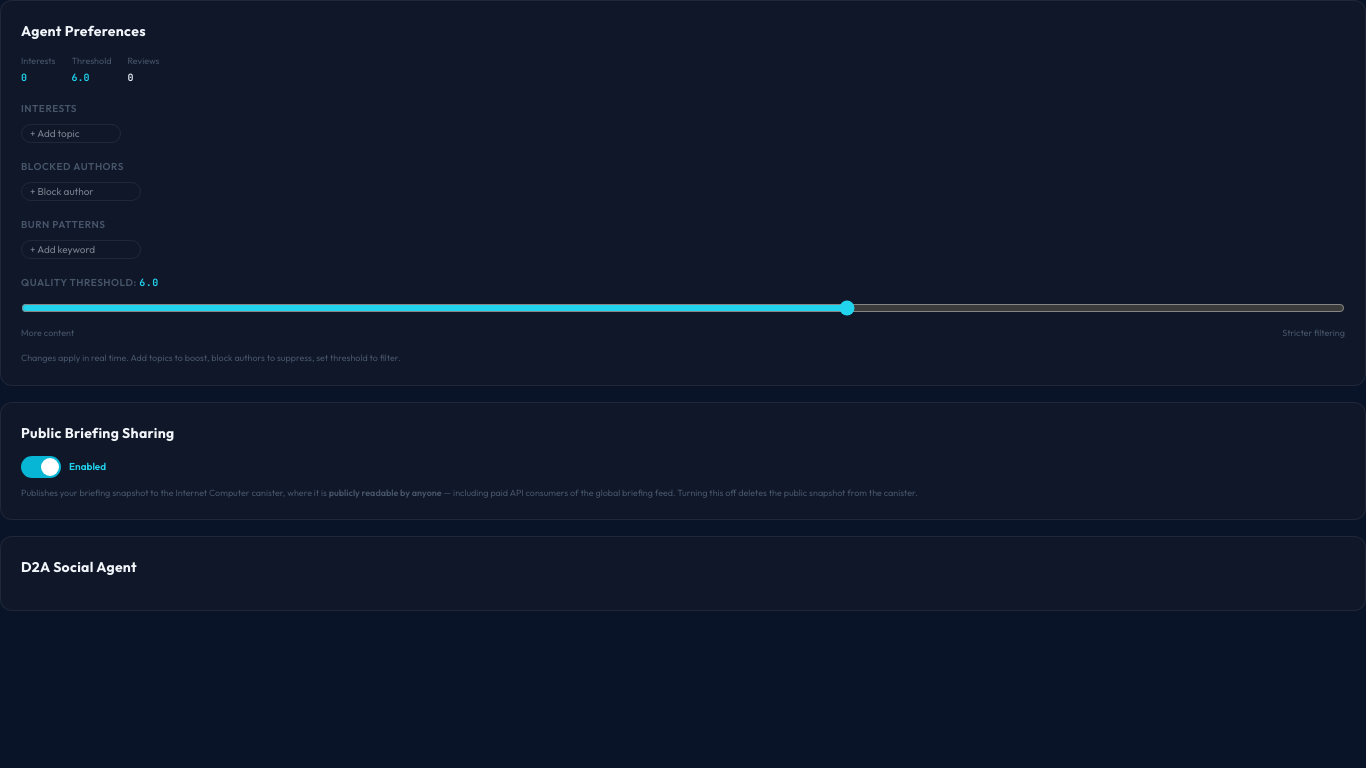
Test: AgentSection — public briefing sharing toggle › OFF failure: keeps local state off, keeps the pending opt-out flag, surfaces the retry warning
Click the button with test id "aegis-settings-briefing-share-toggle" at (41, 466), box [21,456,61,478]
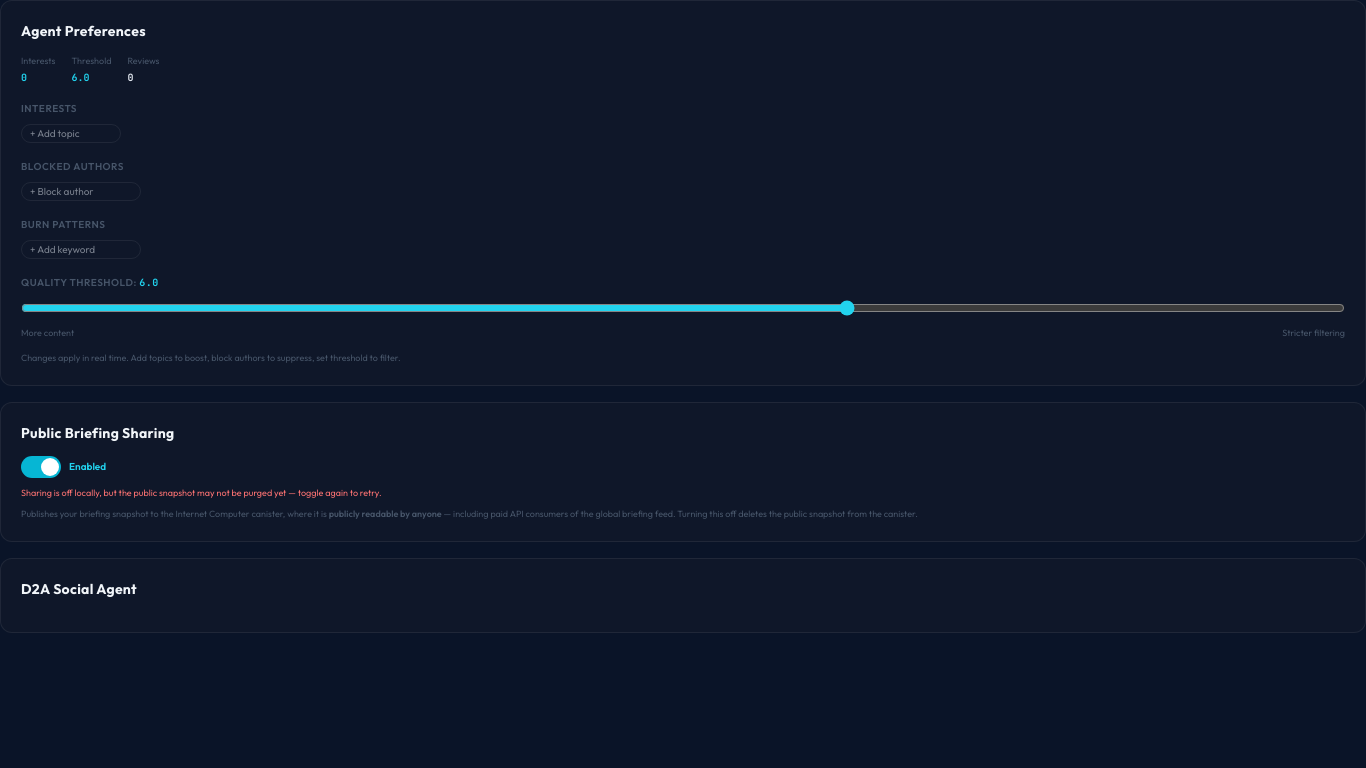
Result: the text "may not be purged yet" is shown at [21,486,382,498]
